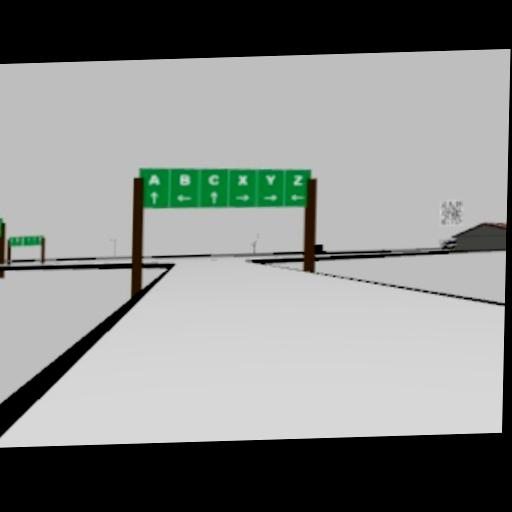A: (147, 173, 161, 186), (18, 237, 28, 242)
B: (179, 175, 190, 186)
C: (207, 174, 218, 185)
Left: (176, 193, 191, 202), (289, 193, 304, 201), (25, 236, 33, 244)
Right: (233, 192, 250, 201), (263, 193, 278, 201)
Straight: (149, 191, 158, 204), (208, 190, 217, 203), (10, 235, 20, 244)
X: (237, 173, 248, 184)
Y: (265, 174, 275, 184)
Z: (293, 174, 303, 186)
